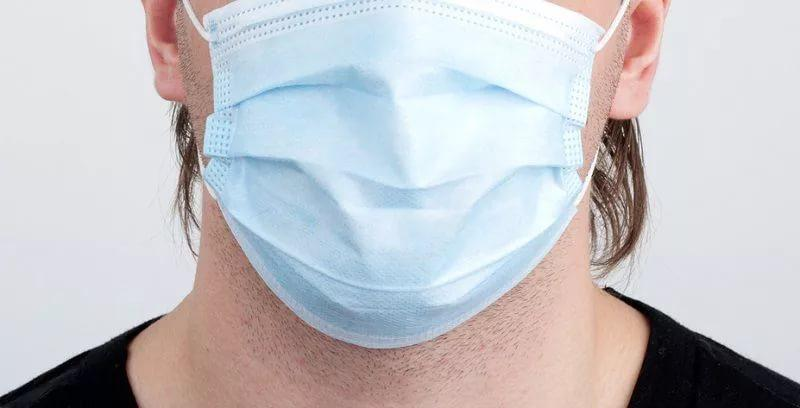mask: (186, 1, 617, 354)
